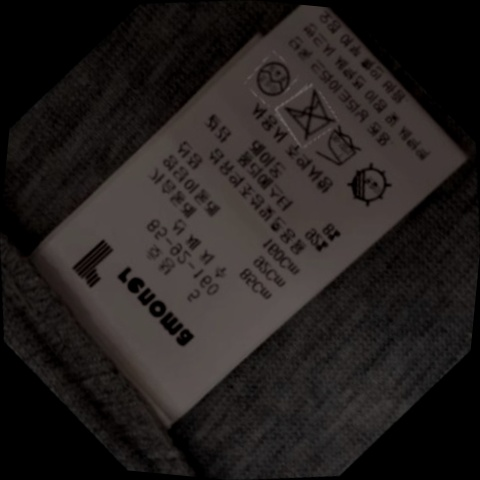DN_wash: (276, 87, 338, 143)
dry_clean_petrol_only: (247, 53, 296, 101)
iron_low: (312, 124, 367, 174)
line_dry_in_shade: (336, 160, 396, 212)
